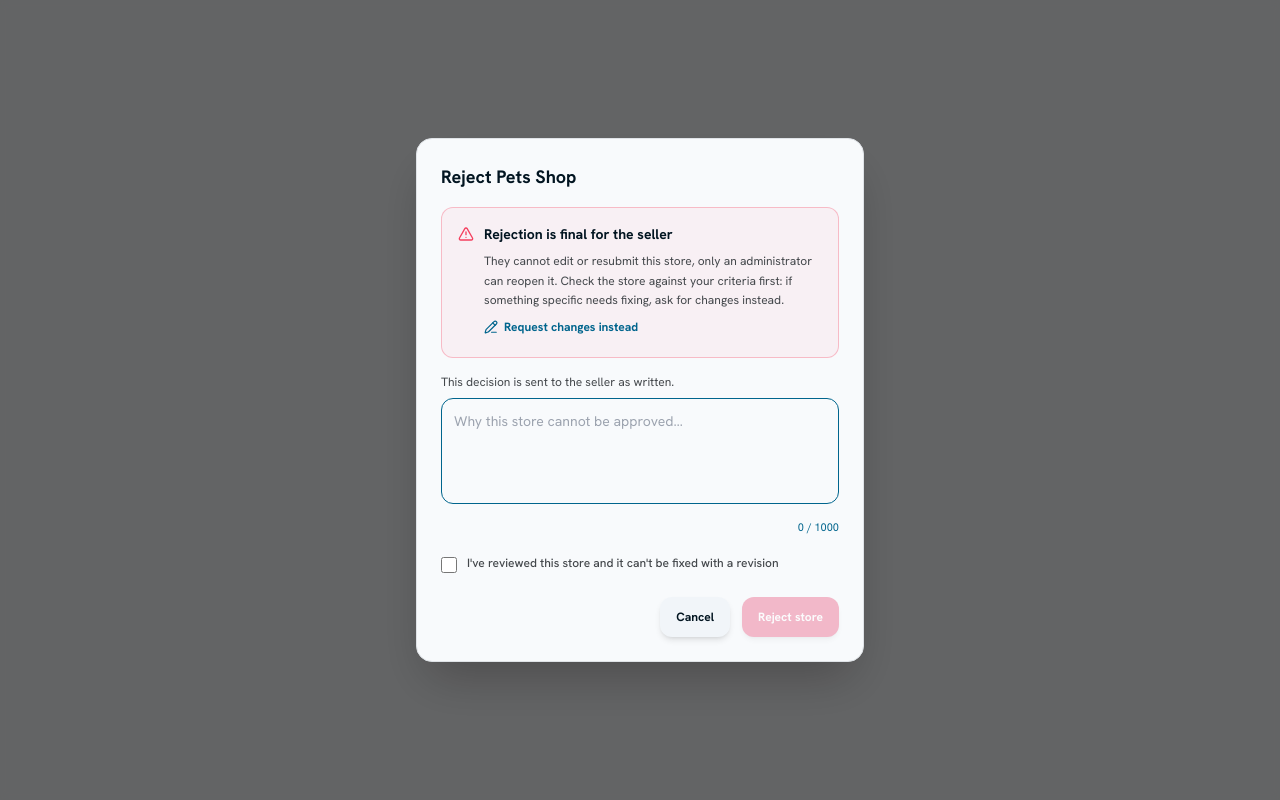
Test: the acknowledgement gate › opens only when both are given
Type "Address could not be verified" into the text box. click: [640, 451]
box: [441,398,839,504]
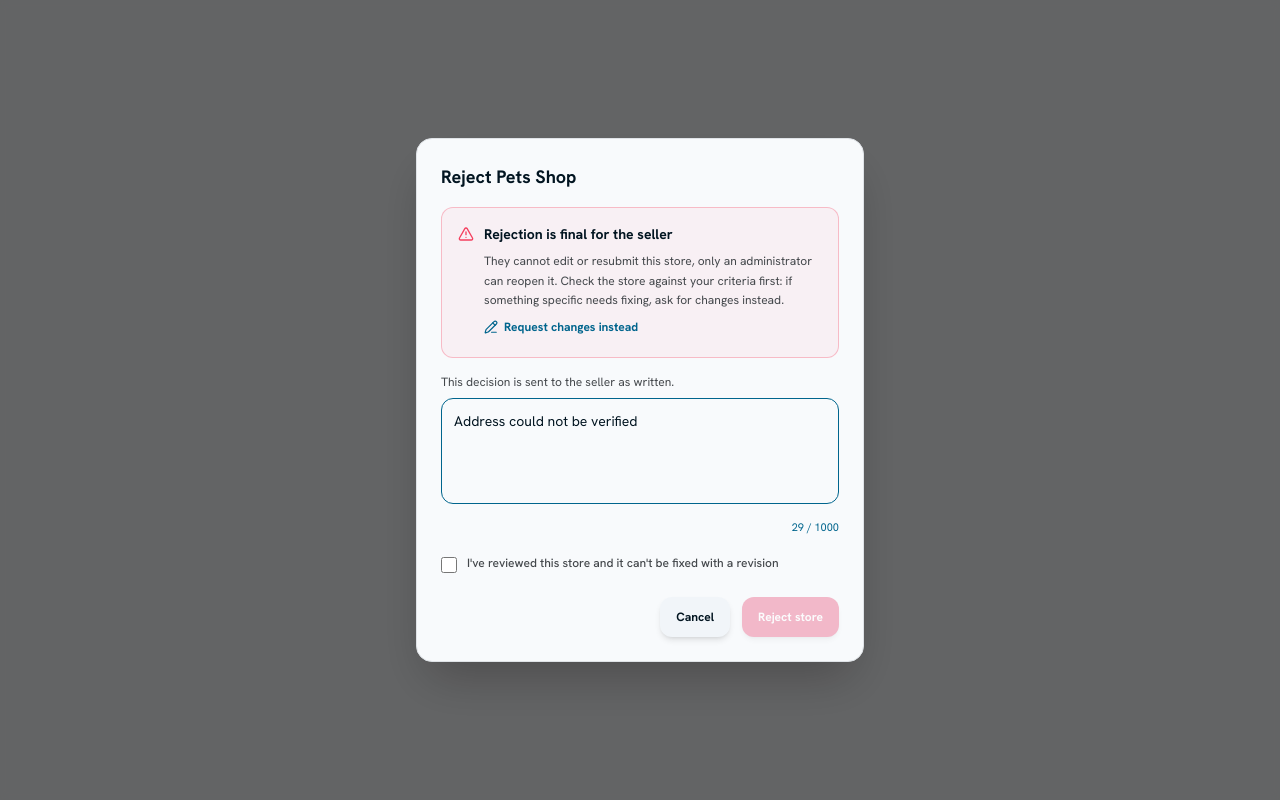
Click the checkbox. click: [449, 565]
box: [441,557,457,573]
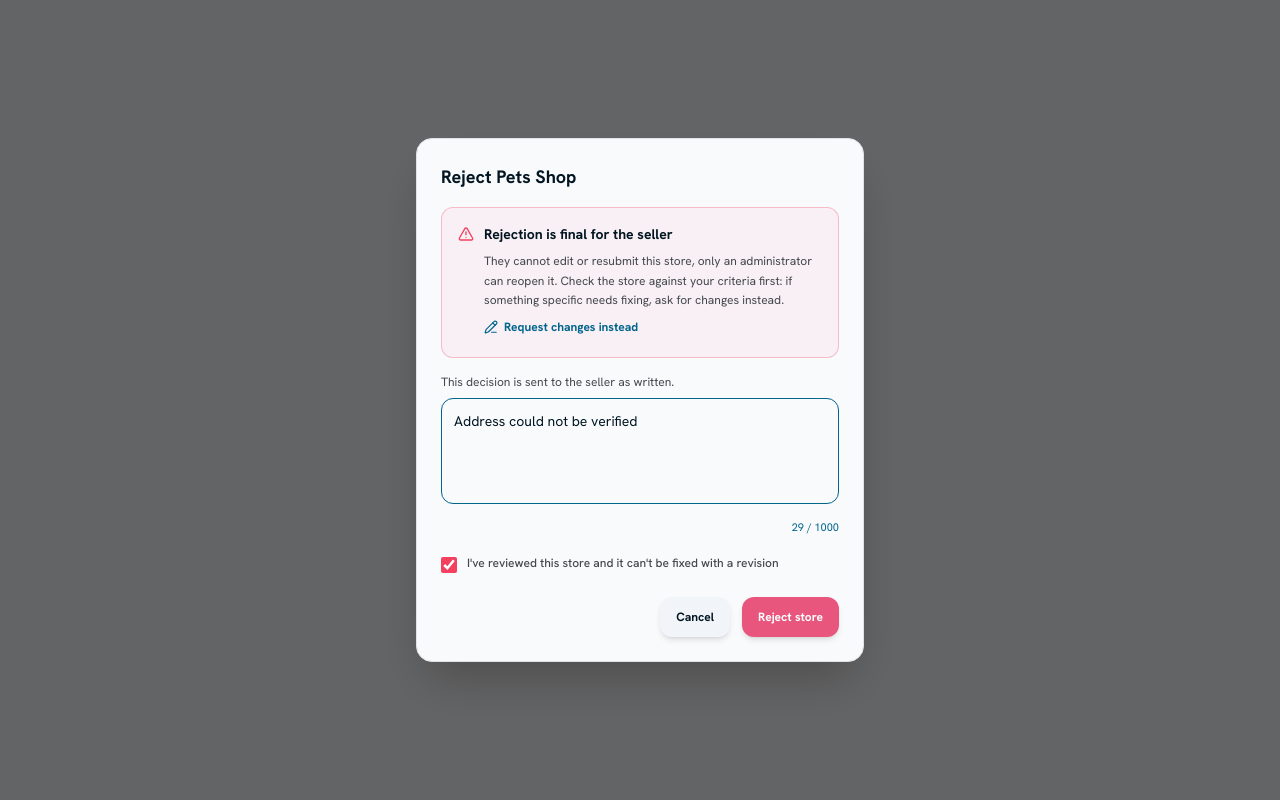
Result: the button "Reject store" is enabled at [742,597,839,637]
